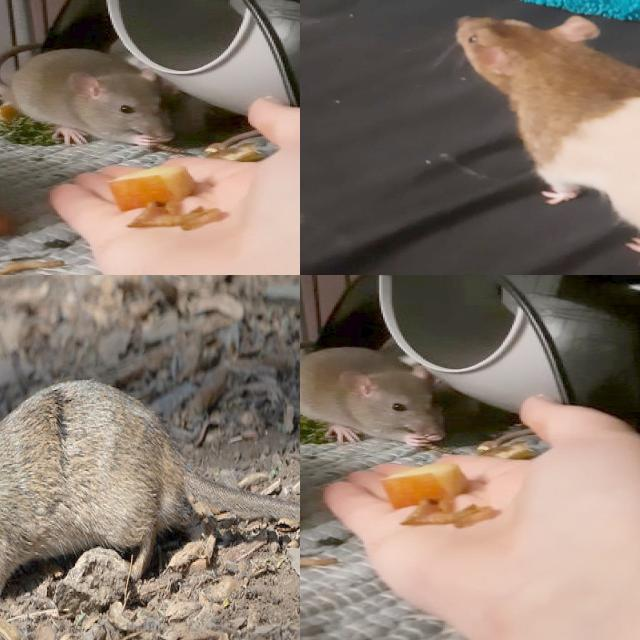rat: (453, 13, 640, 275), (0, 382, 189, 600), (6, 49, 177, 148), (300, 344, 445, 449)
